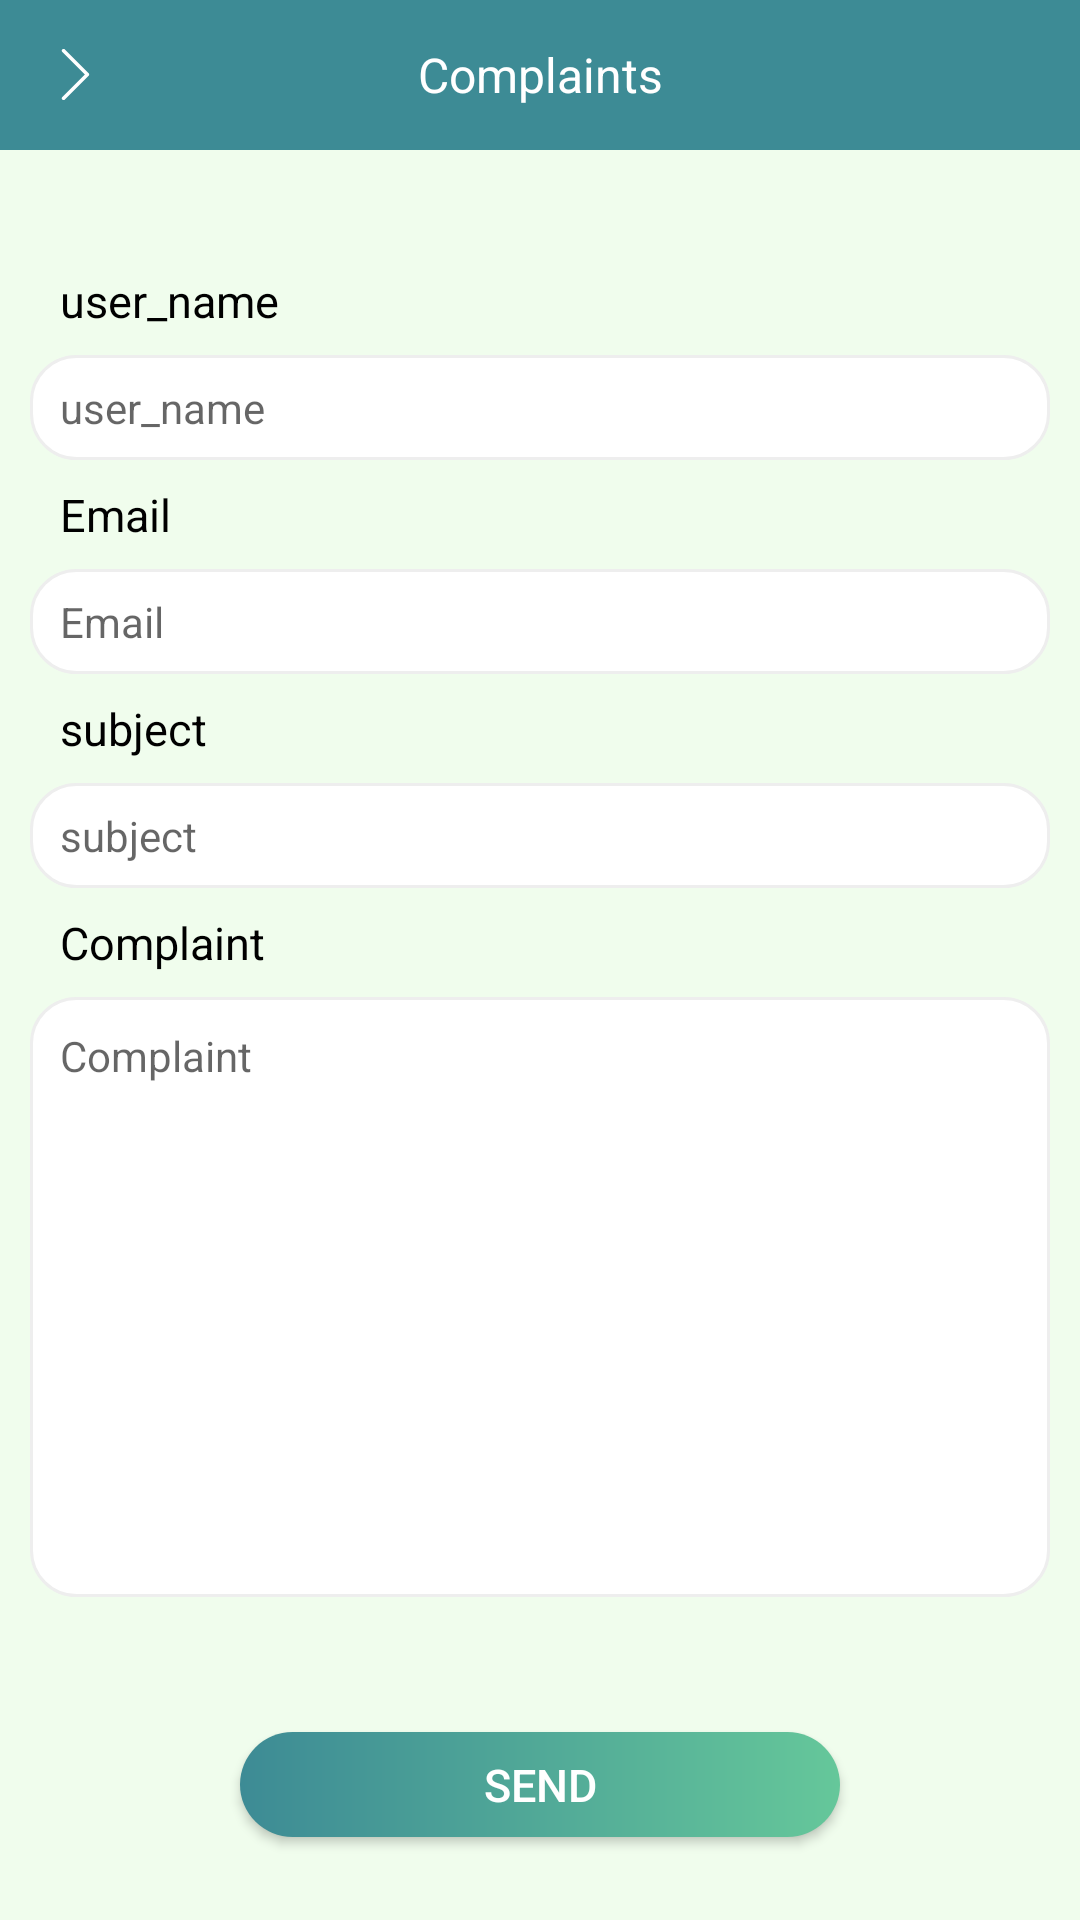

Point at icon controls on the screen. Image size 1080*1920, points as (x,y).
right arrow: (75,74)
